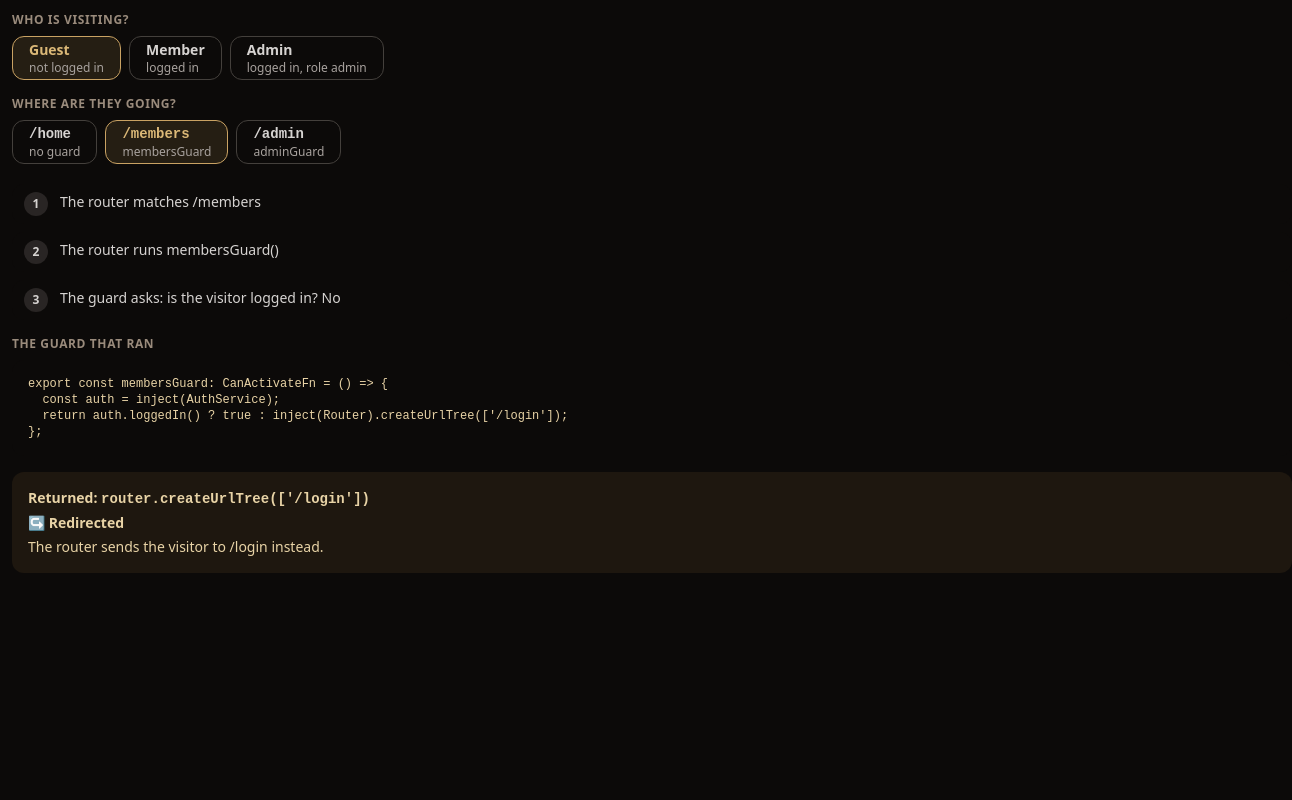
GuardGateDemoComponent › shows an admin getting in, and lists the steps the router took
Click the button "Admin logged in, role admin" at (307, 58), box top-left (230, 36), bottom-right (384, 80)
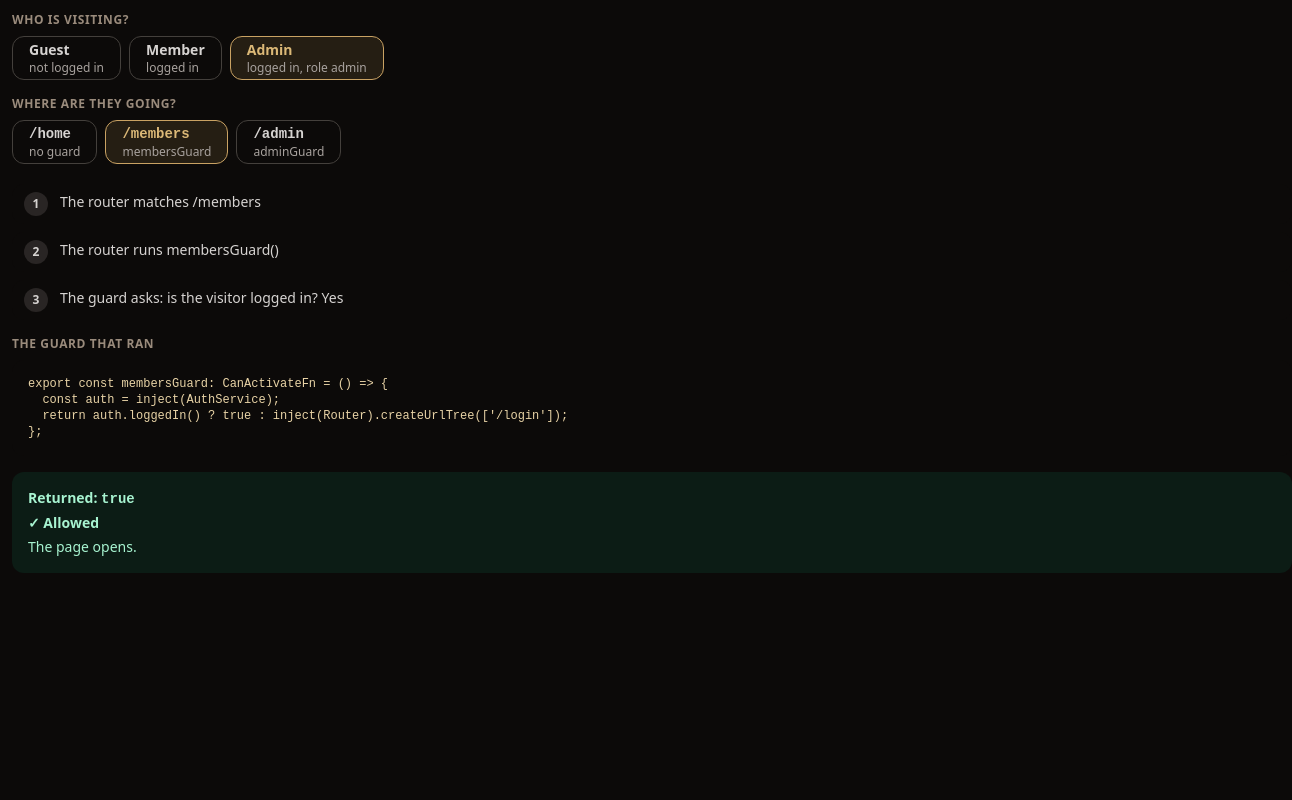
Click the button "/admin adminGuard" at (289, 142), box top-left (236, 120), bottom-right (341, 164)
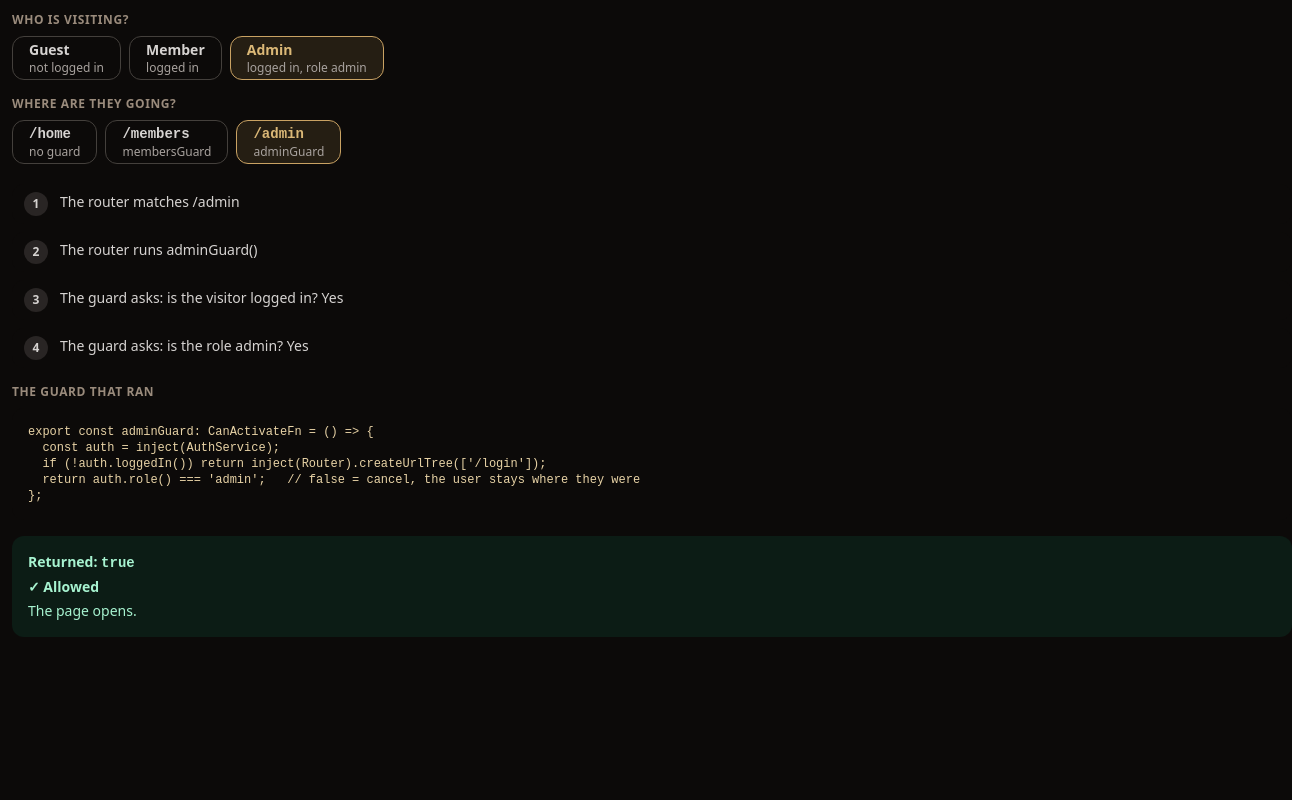
expect the text "✓ Allowed" is shown: met, box top-left (28, 577), bottom-right (99, 596)
expect the number of list items is 4: met, box top-left (12, 184), bottom-right (1291, 224); top-left (12, 232), bottom-right (1291, 272); top-left (12, 280), bottom-right (1291, 320); top-left (12, 328), bottom-right (1291, 368)
